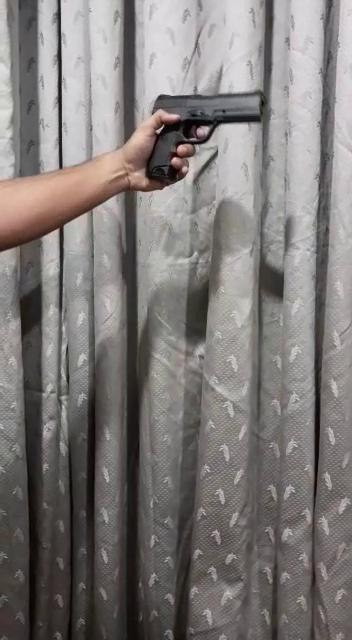weapon: (141, 87, 273, 186)
